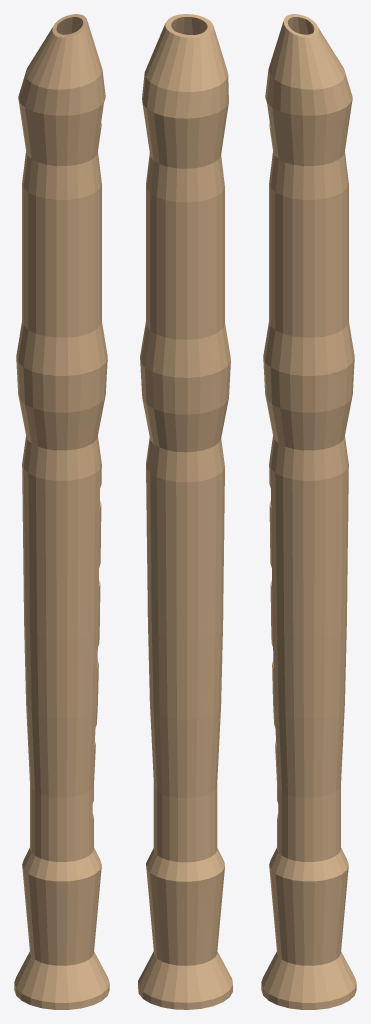
Rendered from flute.glb.
3 renders of one model, left to right at view 1: azimuth 90°, elevation 25°; view 2: azimuth 150°, elevation 25°; view 3: azimuth 270°, elevation 25°, orthographic.
Visible parts, largest first — view 1: cylinder; view 2: cylinder; view 3: cylinder.
Boxes of the visible parts, x1,y1,x2,y2 form: cylinder: (14, 14, 109, 1009); cylinder: (138, 14, 232, 1009); cylinder: (261, 14, 356, 1009).
Size of the model in its own units: 0.075 by 0.8459 by 0.0756.
Materials: 2 (2 with a texture image).
